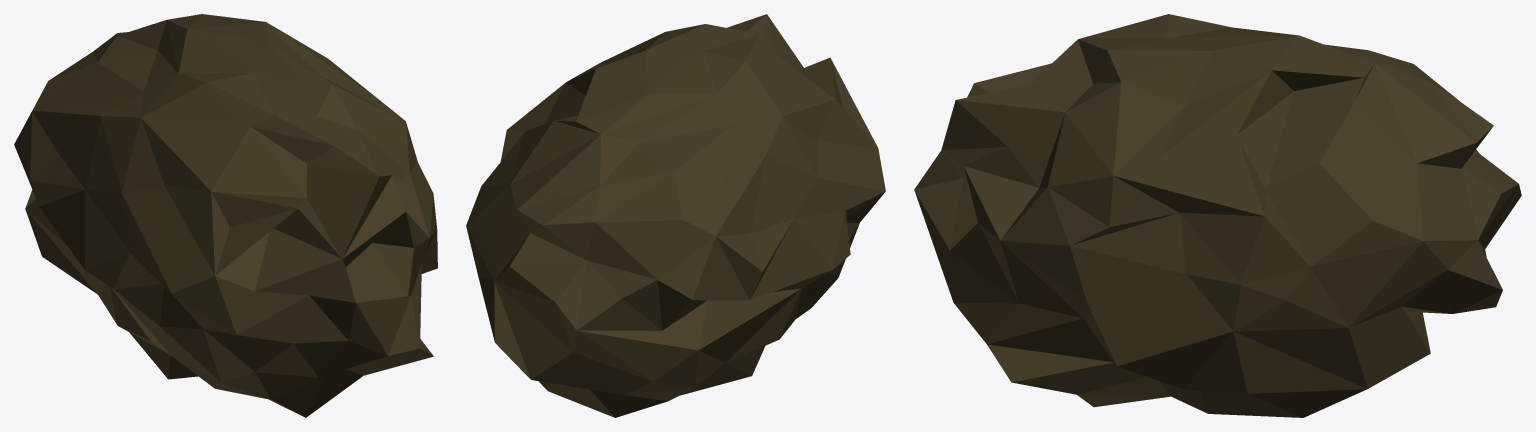
Rendered from Asteroid_Small.fbx.
3 views of the same model, side by side, from view 1: azimuth 30°, elevation 25°; view 2: azimuth 150°, elevation 25°; view 3: azimuth 270°, elevation 25° (orthographic). The views are drawn at different scales.
Parts seen in each view (by area): view 1: Icosphere; view 2: Icosphere; view 3: Icosphere.
Boxes of the visible parts, box(x1,y1,x2,y2) form: Icosphere: box(14, 14, 437, 417); Icosphere: box(466, 14, 885, 417); Icosphere: box(914, 14, 1521, 417).
Bounding box in the file's own units: 20248 × 20385 × 30741.
